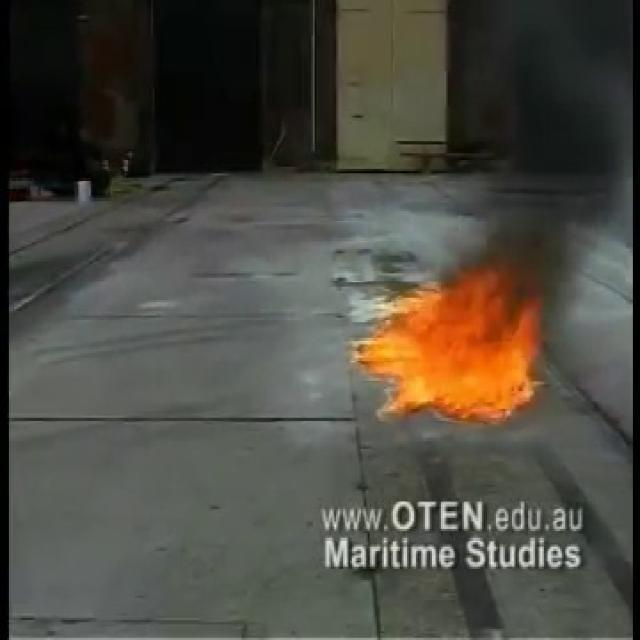Fire: (348, 265, 552, 419)
Smoke: (443, 0, 633, 293)
